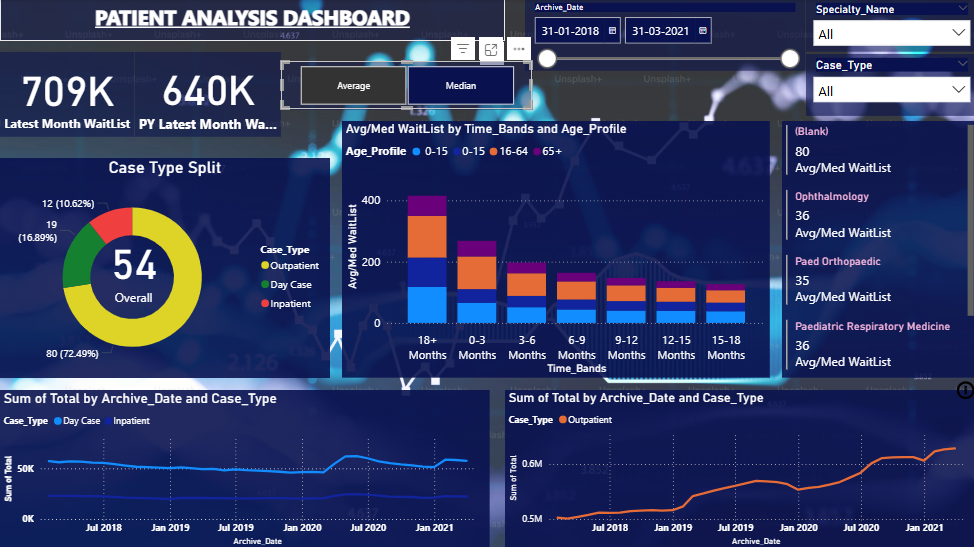

The page's visual inventory and layout, read from the dashboard file:
{"tool":"powerbi","page":{"name":"Summary","canvas":[1280,720],"ordinal":0},"visuals":[{"type":"card","fields":{"Values":["All_Data.Latest Month WaitList"]},"box":[0,68.8,176.1,110.7],"z":0},{"type":"card","fields":{"Values":["All_Data.PY Latest Month WaitList"]},"box":[176.1,68.8,191.2,110.7],"z":1000},{"type":"slicer","fields":{"Values":["Table.Calc Method"]},"box":[367.4,80.5,328.8,63.7],"z":2000},{"type":"donutChart","title":"Case Type Split","fields":{"Category":["All_Data.Case_Type"],"Y":["All_Data.Avg/Med WaitList"]},"box":[0,208,432,288],"z":3000},{"type":"columnChart","fields":{"Y":["All_Data.Avg/Med WaitList"],"Category":["All_Data.Time_Bands"],"Series":["All_Data.Age_Profile"]},"box":[448,160,560,336],"z":4000},{"type":"multiRowCard","fields":{"Values":["All_Data.Specialty_Name","All_Data.Avg/Med WaitList"]},"box":[1024,160,256,336],"z":5000},{"type":"card","fields":{"Values":["All_Data.NoData_Left"]},"box":[160,592,272,64],"z":6000},{"type":"lineChart","fields":{"Category":["All_Data.Archive_Date"],"Y":["Sum(All_Data.Total)"],"Series":["All_Data.Case_Type"]},"box":[0,511.7,640.8,208],"z":7000},{"type":"card","fields":{"Values":["All_Data.NoData_Right"]},"box":[832,592,272,64],"z":8000},{"type":"lineChart","fields":{"Category":["All_Data.Archive_Date"],"Y":["Sum(All_Data.Total)"],"Series":["All_Data.Case_Type"]},"box":[661,511.7,619,208],"z":9000},{"type":"slicer","fields":{"Values":["All_Data.Archive_Date"]},"box":[687.8,0,367.4,93.9],"z":10000},{"type":"slicer","fields":{"Values":["All_Data.Case_Type"]},"box":[1055.2,72.1,224.8,80.5],"z":11000},{"type":"slicer","fields":{"Values":["All_Data.Specialty_Name"]},"box":[1055.2,0,224.8,68.8],"z":12000},{"type":"textbox","box":[0,0,661,55.4],"z":13000},{"type":"card","fields":{"Values":["All_Data.Avg/Med WaitList"]},"box":[55.4,231.5,239.9,239.9],"z":14000},{"type":"actionButton","box":[1216,496,64,32],"z":15000}]}

Visuals, with their boxes on the page's 1280x720 design canvas (x1, y1, x2, y2). These are canvas units, not pixel positions in the 974x547 screenshot, which may show the page scaled, cropped or inside an application window:
card - All_Data.Latest Month WaitList: Rect(0, 69, 176, 180)
card - All_Data.PY Latest Month WaitList: Rect(176, 69, 367, 180)
slicer - Table.Calc Method: Rect(367, 80, 696, 144)
"Case Type Split" donutChart: Rect(0, 208, 432, 496)
columnChart - All_Data.Avg/Med WaitList x All_Data.Time_Bands: Rect(448, 160, 1008, 496)
multiRowCard - All_Data.Specialty_Name x All_Data.Avg/Med WaitList: Rect(1024, 160, 1280, 496)
card - All_Data.NoData_Left: Rect(160, 592, 432, 656)
lineChart - All_Data.Archive_Date x Sum(All_Data.Total): Rect(0, 512, 641, 720)
card - All_Data.NoData_Right: Rect(832, 592, 1104, 656)
lineChart - All_Data.Archive_Date x Sum(All_Data.Total): Rect(661, 512, 1280, 720)
slicer - All_Data.Archive_Date: Rect(688, 0, 1055, 94)
slicer - All_Data.Case_Type: Rect(1055, 72, 1280, 153)
slicer - All_Data.Specialty_Name: Rect(1055, 0, 1280, 69)
textbox: Rect(0, 0, 661, 55)
card - All_Data.Avg/Med WaitList: Rect(55, 232, 295, 471)
actionButton: Rect(1216, 496, 1280, 528)
